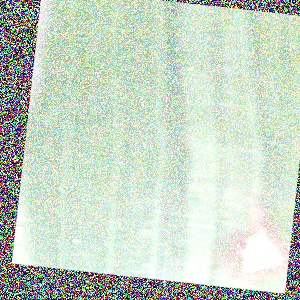Brown_Spot: (222, 189, 300, 282)
